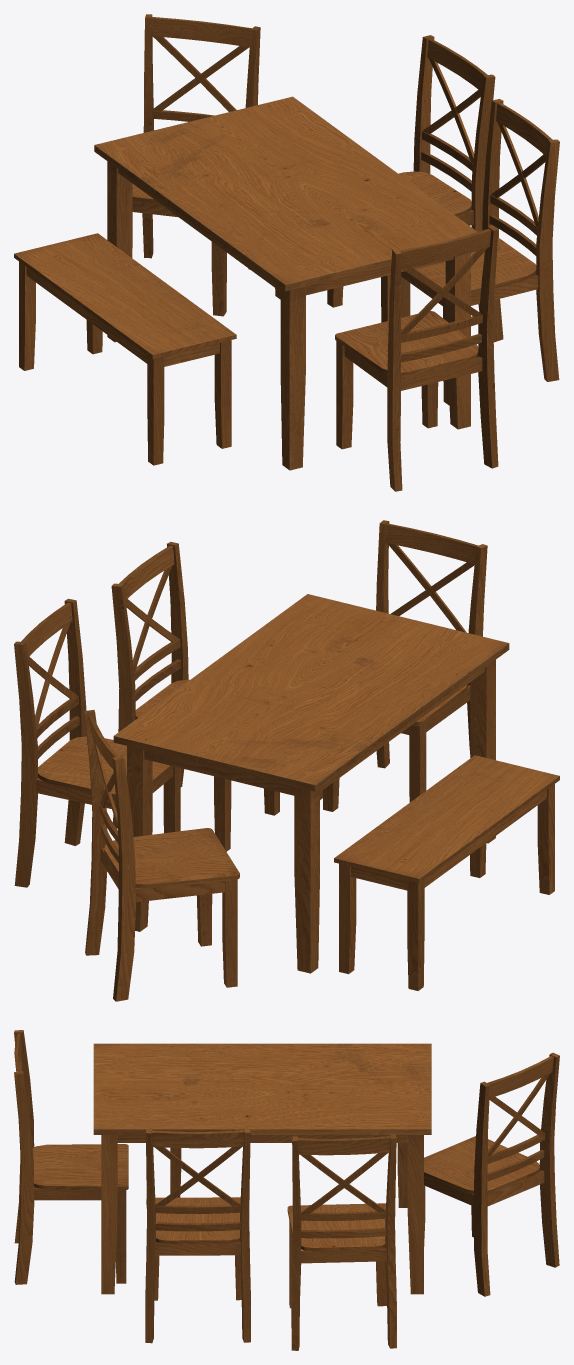
3 views of the same model, one above another, from view 1: azimuth 30°, elevation 25°; view 2: azimuth 150°, elevation 25°; view 3: azimuth 270°, elevation 25° (orthographic). The views are drawn at different scales.
Visible parts, largest first — view 1: Table_low, Bench_low, Chair1_low, Chair4_low, Chair3_low, Chair2_low; view 2: Table_low, Bench_low, Chair2_low, Chair3_low, Chair4_low, Chair1_low; view 3: Table_low, Chair2_low, Chair3_low, Chair4_low, Chair1_low, Bench_low.
Part boxes in pixels (x1,y1,x2,y2): Table_low: (94,96,477,470); Bench_low: (14,233,236,465); Chair1_low: (335,225,498,491); Chair4_low: (400,99,559,405); Chair3_low: (327,35,495,322); Chair2_low: (132,14,260,316); Table_low: (113,594,509,973); Bench_low: (334,755,559,990); Chair2_low: (84,710,239,1001); Chair3_low: (14,598,180,887); Chair4_low: (111,541,279,851); Chair1_low: (323,520,487,811); Table_low: (93,1043,431,1294); Chair2_low: (424,1052,559,1296); Chair3_low: (287,1134,396,1350); Chair4_low: (145,1128,250,1343); Chair1_low: (14,1030,128,1284); Bench_low: (170,1143,407,1207).
Size of the model in its own units: 1.88 by 1.03 by 2.42.
1 material, 1 textured.
